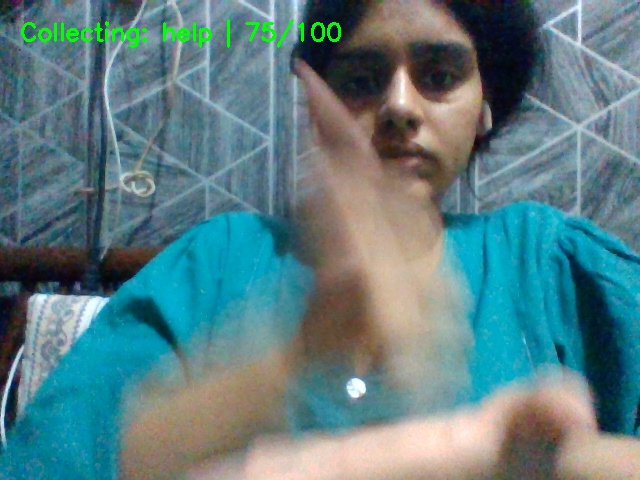help: (262, 113, 597, 479)
